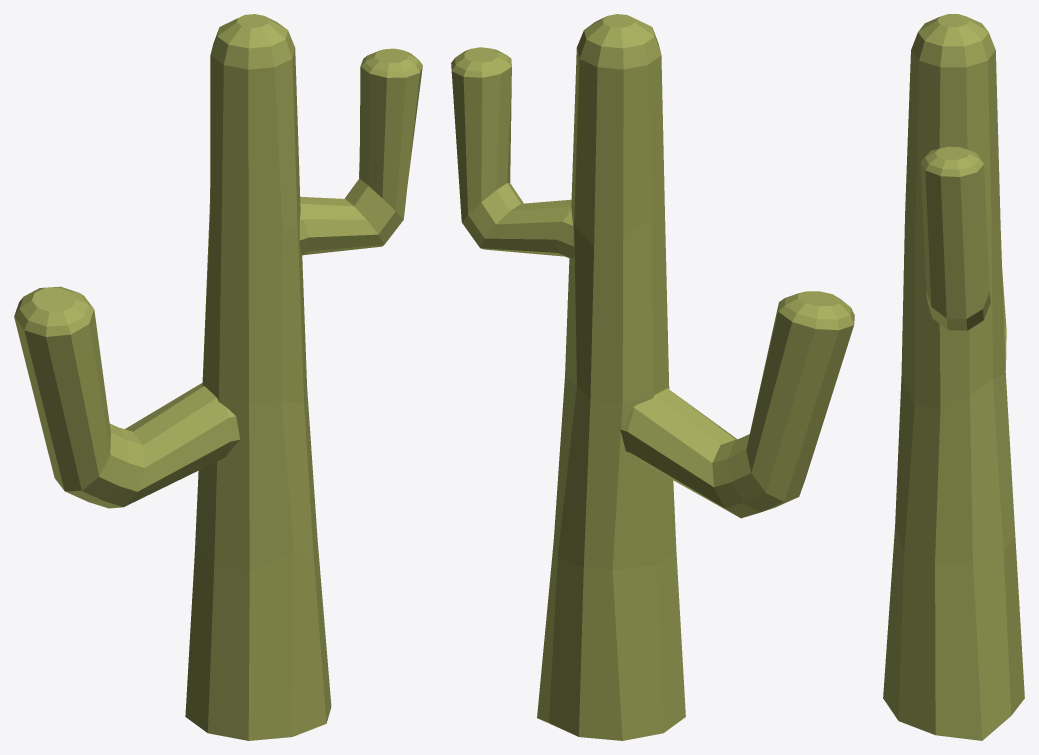
File: Cactus1.fbx
The picture shows the model from 3 angles, left to right: view 1: azimuth 30°, elevation 25°; view 2: azimuth 150°, elevation 25°; view 3: azimuth 270°, elevation 25°; orthographic projection. The views are drawn at different scales.
Parts seen in each view (by area): view 1: Cactus; view 2: Cactus; view 3: Cactus.
Part boxes in pixels (bbox=[...]): Cactus: bbox=[14, 14, 422, 740]; Cactus: bbox=[451, 14, 854, 740]; Cactus: bbox=[883, 14, 1024, 740].
Size of the model in its own units: 48.34 by 81.93 by 15.3.
